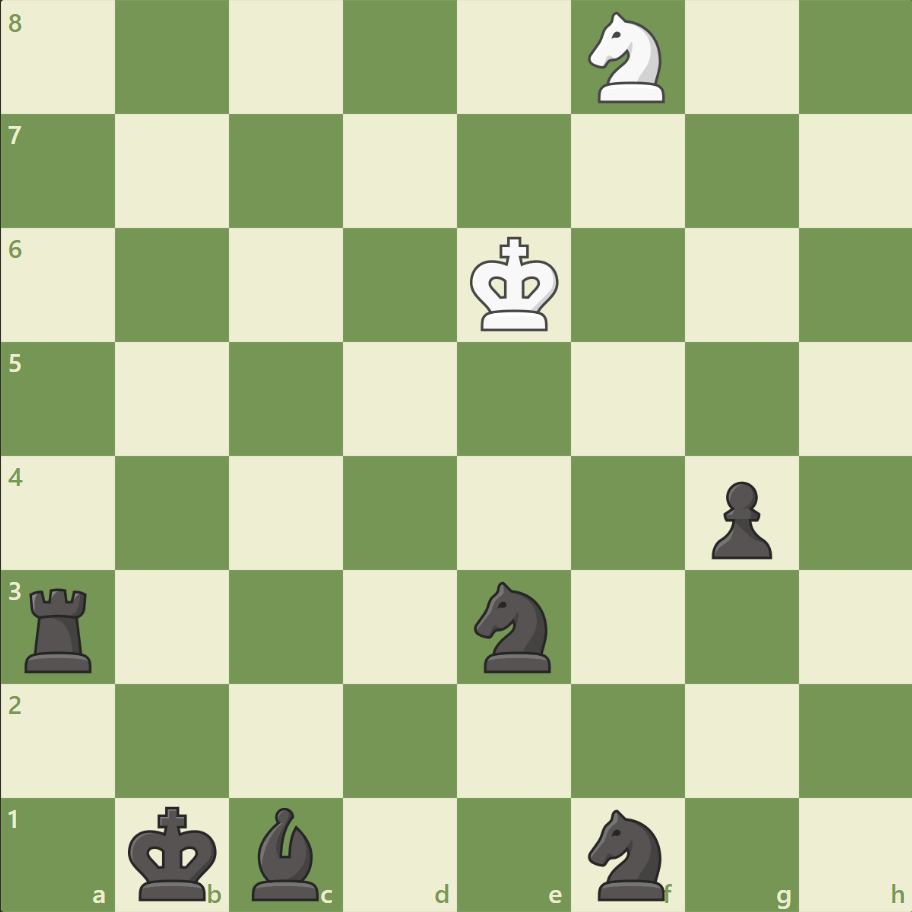K: (465, 231, 565, 339)
N: (579, 7, 676, 110)
b: (244, 801, 328, 904)
k: (124, 798, 224, 906)
n: (465, 575, 562, 677), (579, 802, 676, 904)
p: (701, 473, 776, 564)
r: (19, 579, 102, 676)
